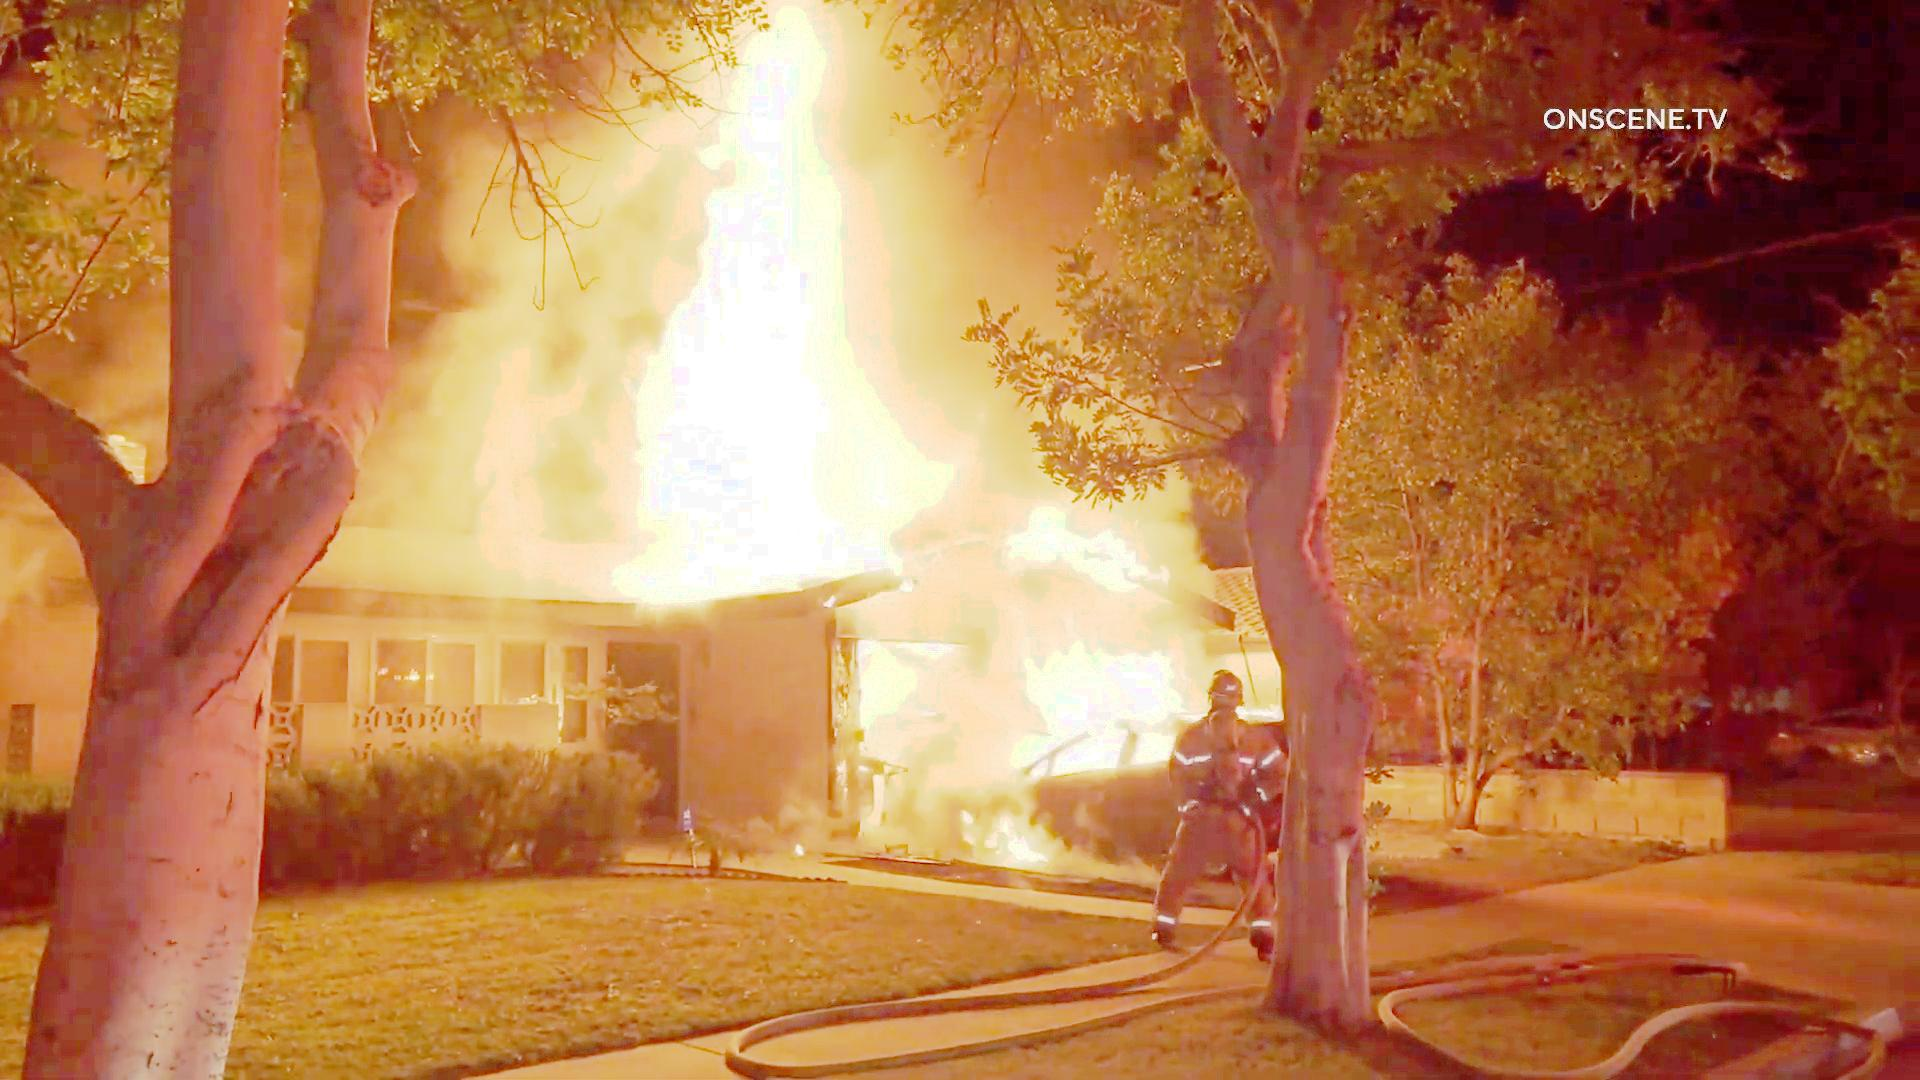fire: (646, 0, 903, 603), (869, 530, 1203, 732), (870, 510, 1035, 866)
smoke: (410, 298, 625, 584)
